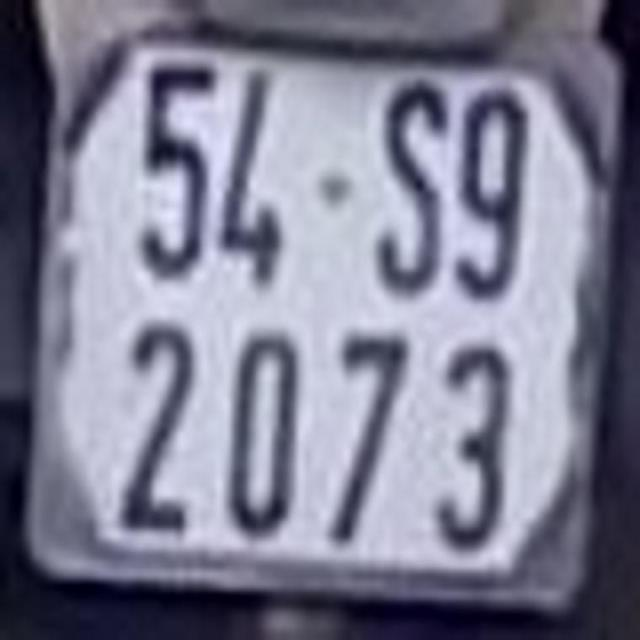0: (228, 333, 302, 536)
2: (118, 322, 189, 528)
3: (437, 344, 515, 556)
4: (224, 70, 286, 284)
5: (144, 66, 212, 274)
7: (331, 324, 413, 542)
9: (461, 96, 523, 295)
S: (380, 86, 442, 287)
